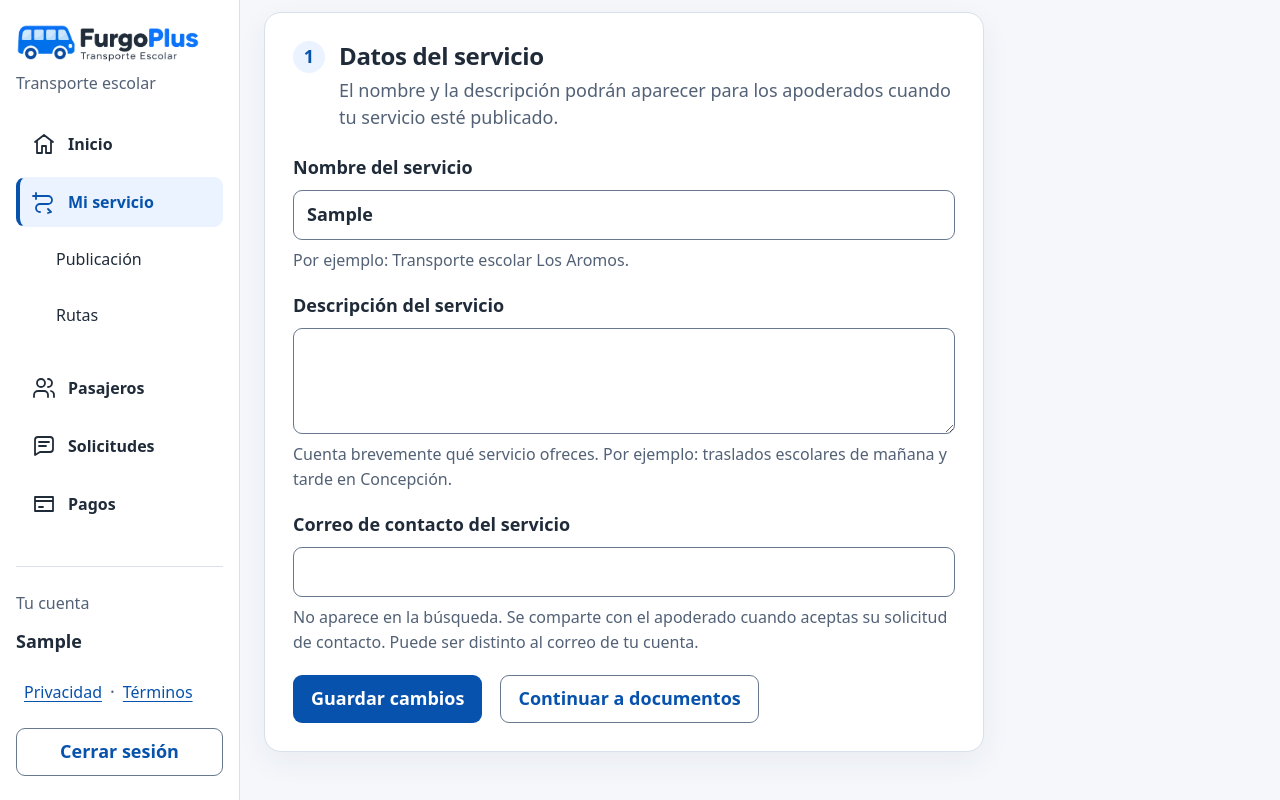
Test: successful profile update automatically fetches publication state
(page scrolled)
expect the field labelled "Nombre del servicio" is shown: met, box left=293, top=190, right=955, bottom=240
Click the button "Guardar cambios": [388, 699] box left=293, top=675, right=482, bottom=723
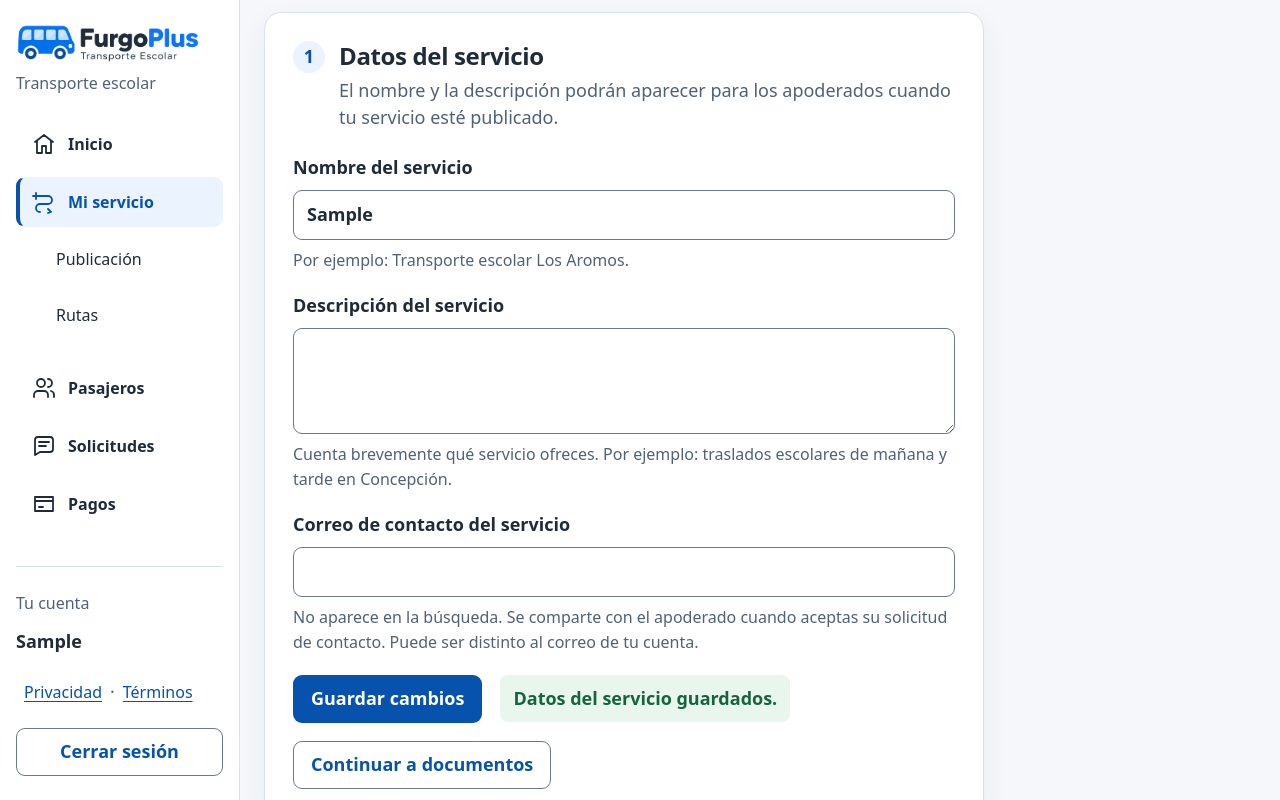
expect the button "Mi servicio" is shown: met, box left=16, top=177, right=223, bottom=227
expect the text "Datos del servicio guardados." is shown: met, box left=500, top=675, right=790, bottom=722
